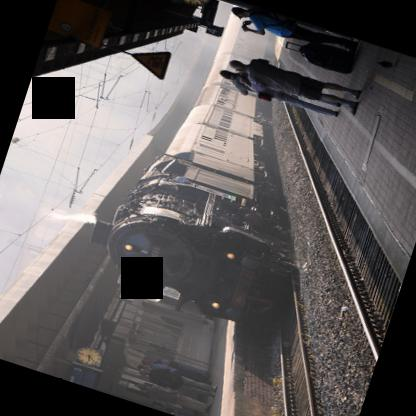suitcase: (300, 41, 355, 72)
